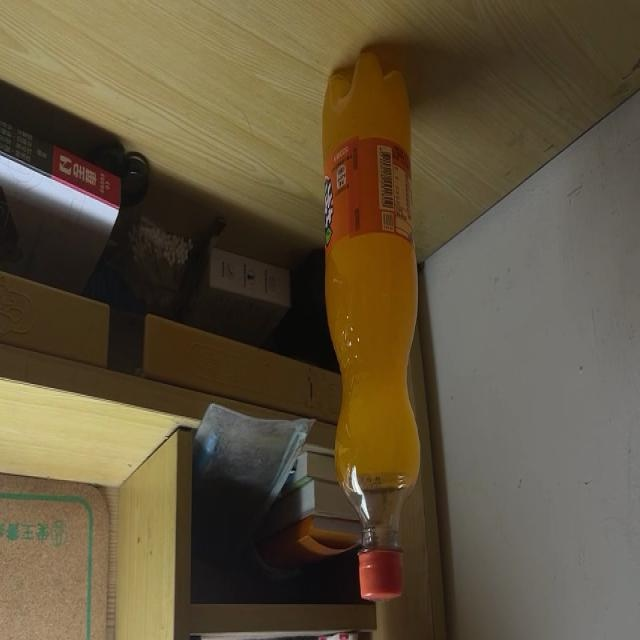Fanta: (322, 50, 421, 600)
